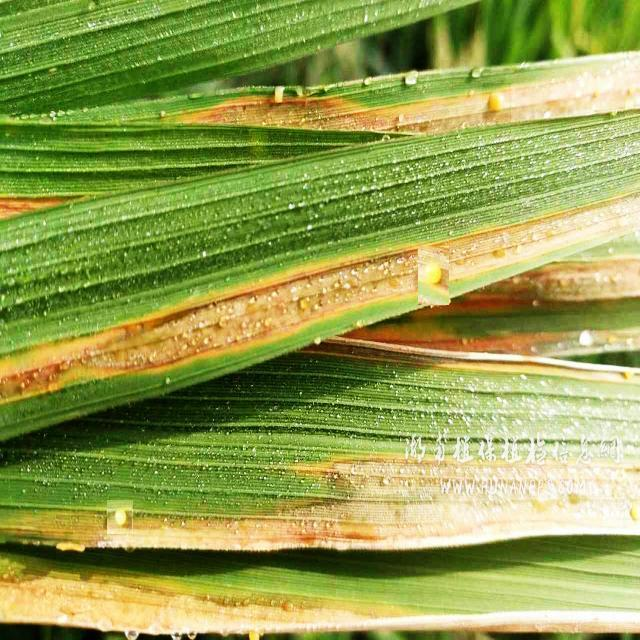whorl-maggot: (418, 246, 449, 305), (482, 83, 511, 123), (108, 500, 134, 534)
